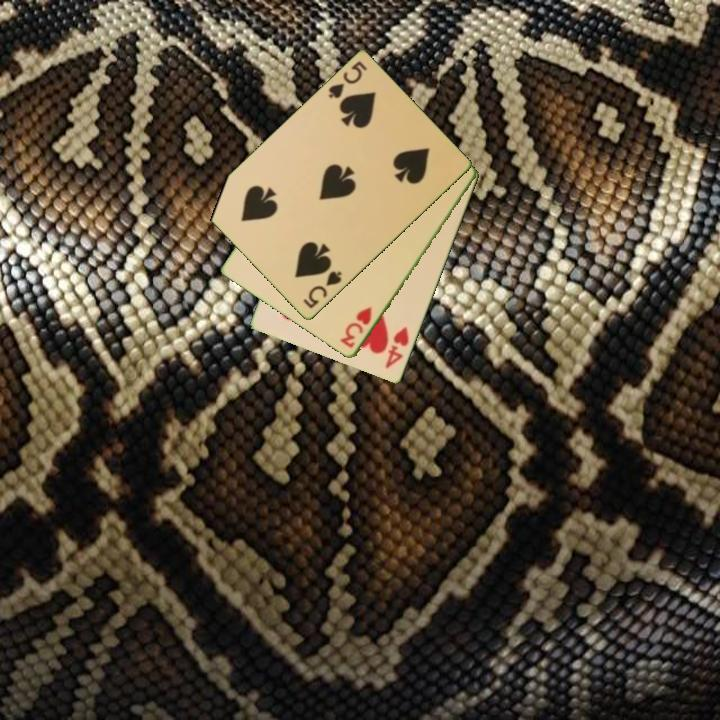3h: (337, 303, 375, 351)
4h: (382, 323, 412, 372)
5s: (300, 267, 345, 312), (325, 58, 370, 102)
